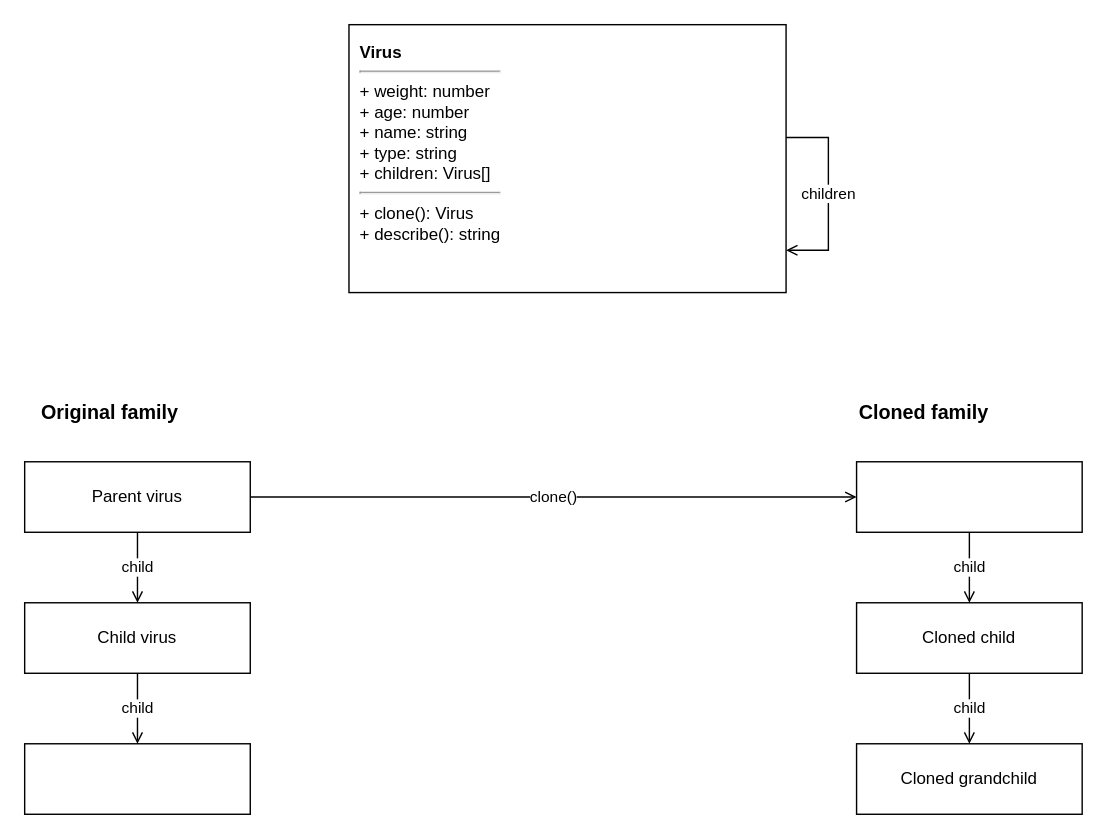
Image size: 1107x839. Some labels were removed from this diagram. Here are the shapes that lost their labels. From the top down, the centre of each, then its label:
At [968,496]: "Cloned parent".
At [136,778]: "GrandChild virus".
